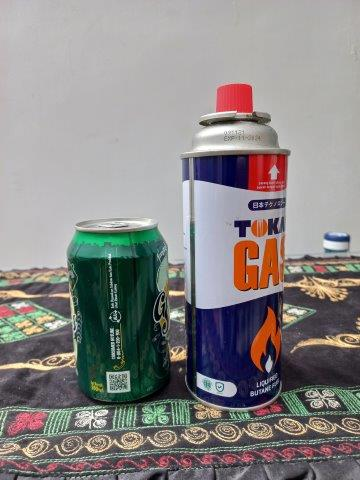kaleng: (181, 83, 292, 413), (67, 216, 171, 405)
